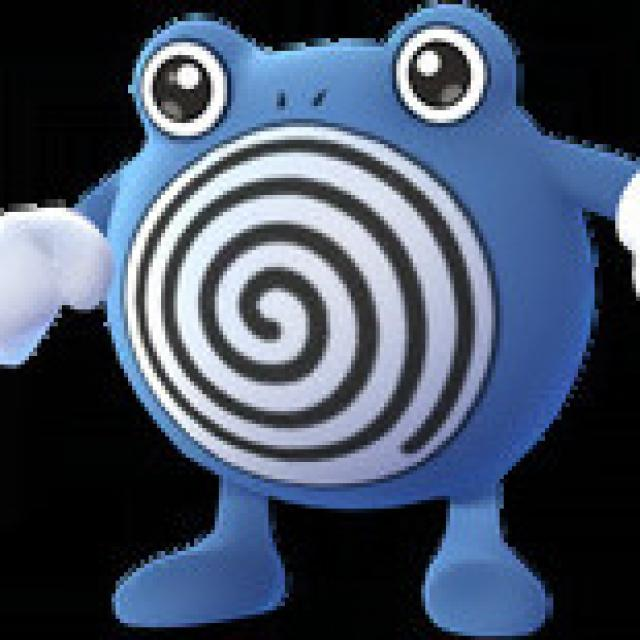Poliwhirl: (117, 14, 558, 637)
